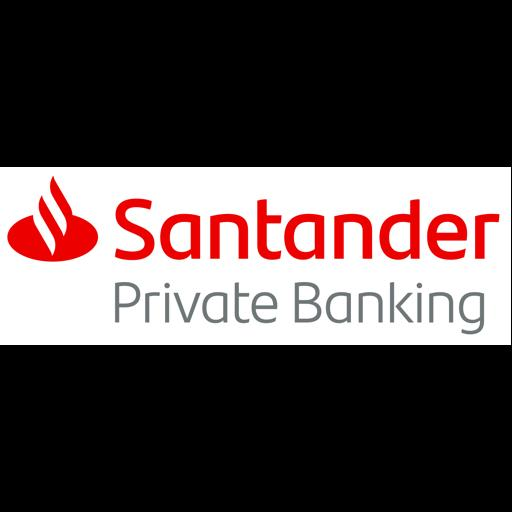Grupo Santander: (0, 167, 511, 345)
